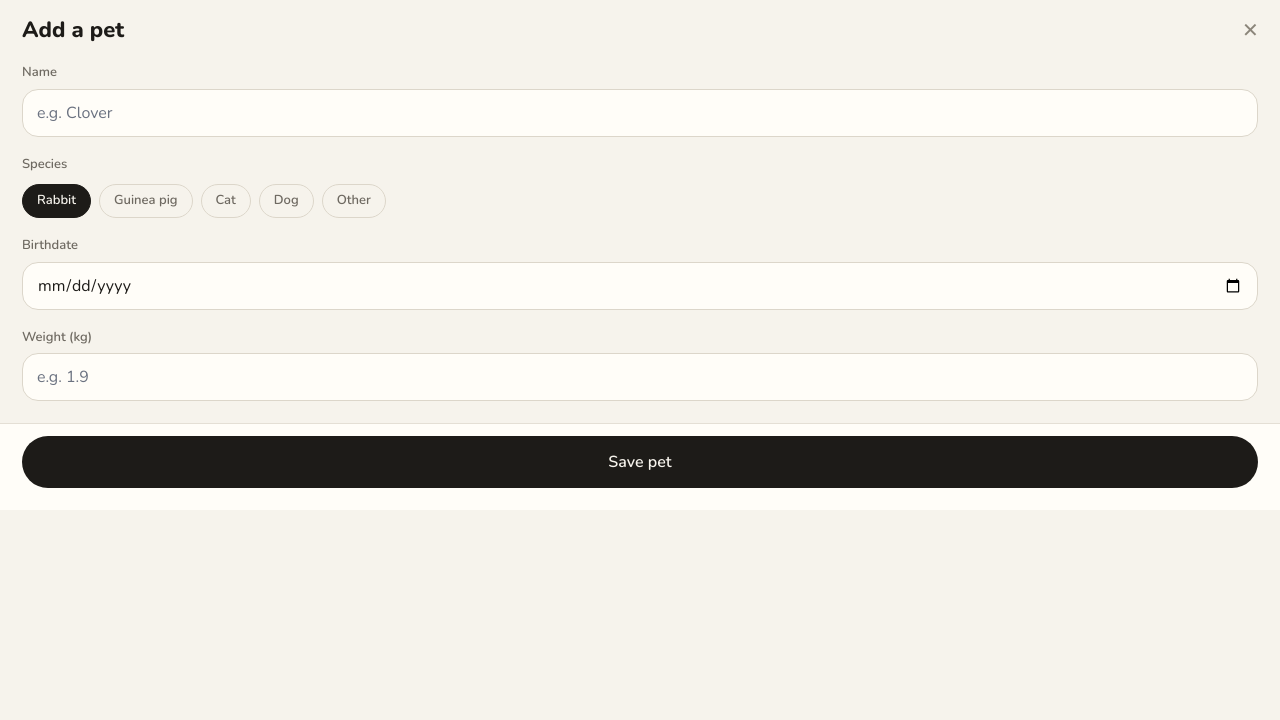
Test case: PetFormView › blocks save and shows an error when the name is empty
Expected: the field labelled "Name" is shown, [22,88,1258,136]
Click the button "Save pet".
click(640, 462)  # box [22,436,1258,488]
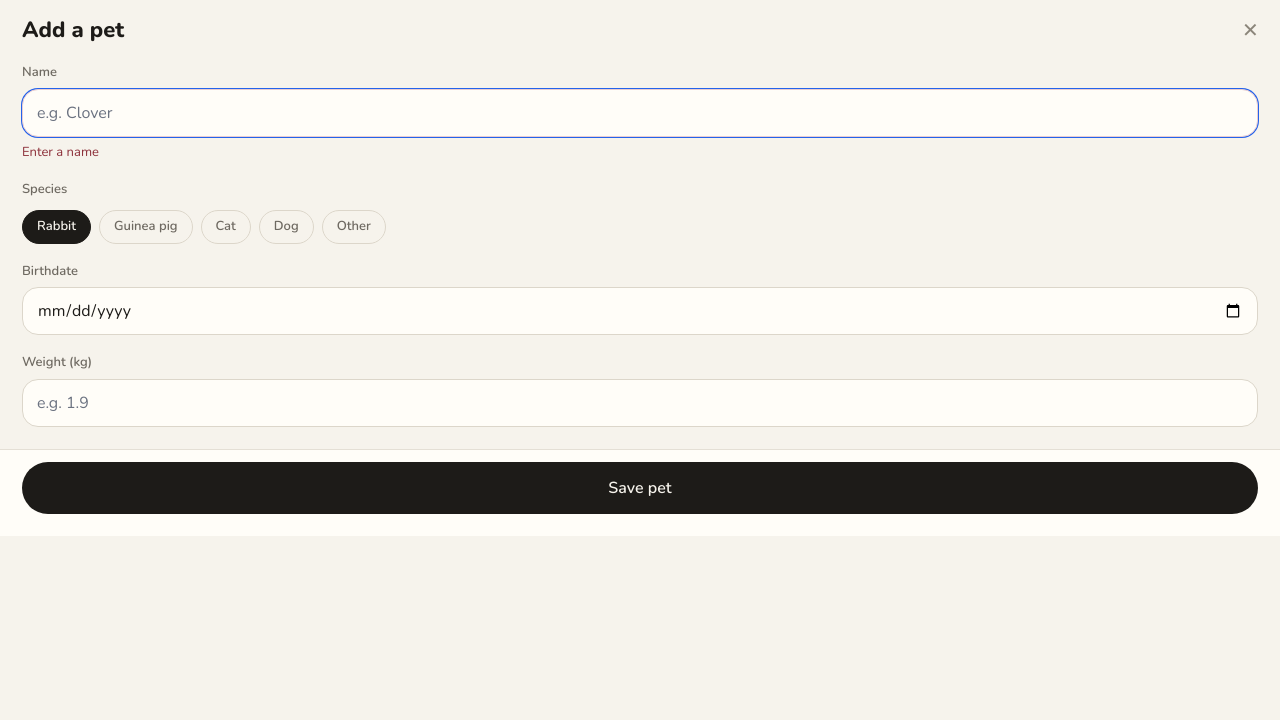
Result: the text "Enter a name" is shown at [22,142,99,160]
